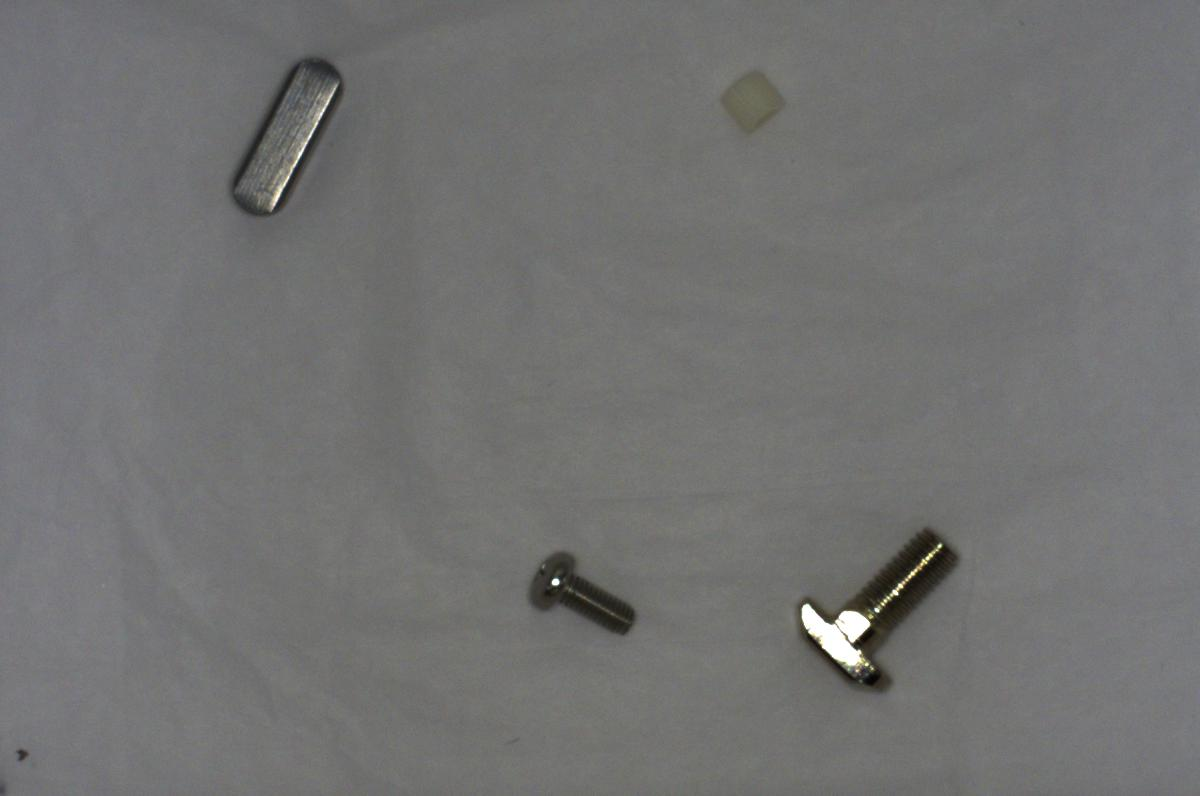Keybar: (228, 54, 348, 223)
Plastic cushion pillar: (720, 61, 787, 136)
Round head screw: (525, 547, 641, 646)
T-shaped screw: (791, 522, 958, 702)
